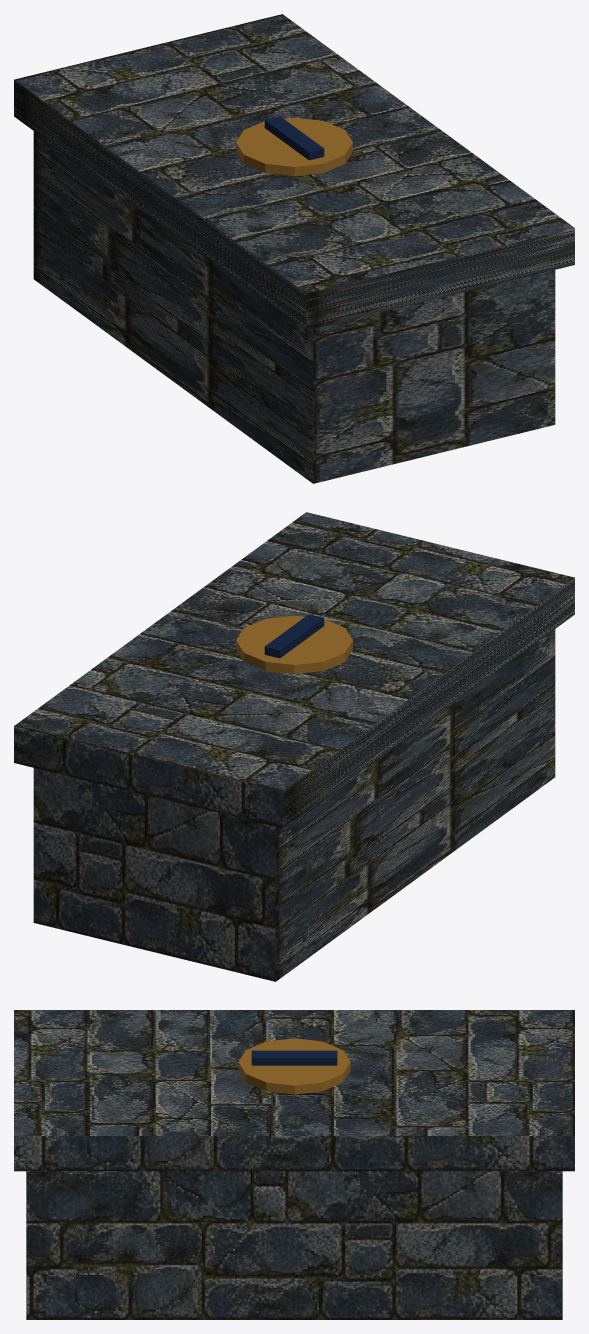
File: D05_Sarcofago_Consumidor.obj
3 renders of one model, top to bottom at view 1: azimuth 30°, elevation 25°; view 2: azimuth 150°, elevation 25°; view 3: azimuth 270°, elevation 25°, orthographic. The views are drawn at different scales.
Visible parts, largest first — view 1: D05_Sarcofago_Consumidor; view 2: D05_Sarcofago_Consumidor; view 3: D05_Sarcofago_Consumidor.
Boxes of the visible parts, x1,y1,x2,y2 form: D05_Sarcofago_Consumidor: [14, 14, 574, 483]; D05_Sarcofago_Consumidor: [14, 512, 574, 981]; D05_Sarcofago_Consumidor: [14, 1010, 574, 1319].
Size of the model in its own units: 1.22 by 0.945 by 2.3.
3 materials, 1 textured.
